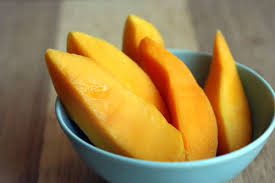mango: (22, 48, 176, 156), (45, 29, 166, 105), (211, 26, 251, 152)
